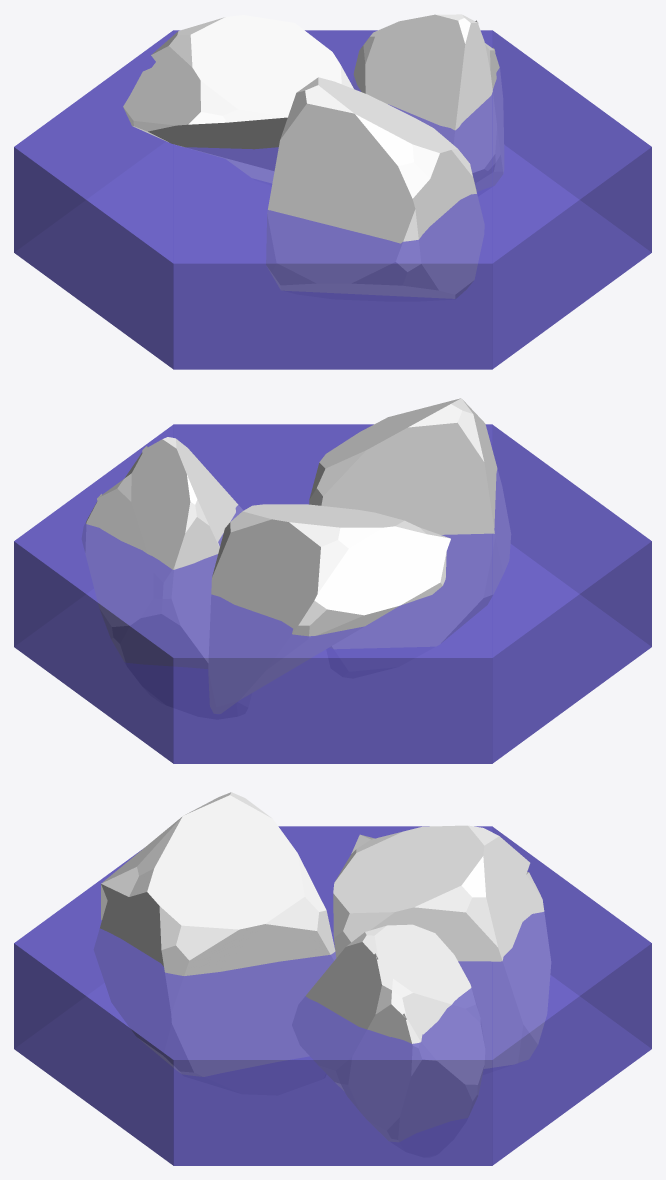
File: HexCell_Arctic_2.glb
3 renders of one model, top to bottom at view 1: azimuth 30°, elevation 25°; view 2: azimuth 150°, elevation 25°; view 3: azimuth 270°, elevation 25°, orthographic.
Parts seen in each view (by area): view 1: HexCell_Arctic_2; view 2: HexCell_Arctic_2; view 3: HexCell_Arctic_2.
Part boxes in pixels (left/top/right/bottom): HexCell_Arctic_2: left=14, top=14, right=651, bottom=369; HexCell_Arctic_2: left=14, top=398, right=651, bottom=763; HexCell_Arctic_2: left=14, top=792, right=651, bottom=1165.
Bounding box in the file's own units: 1.73 × 0.9784 × 2.
